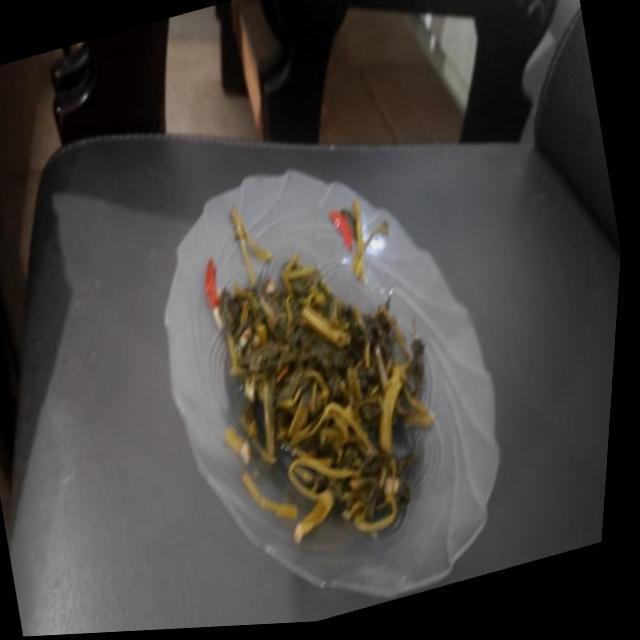tumis_kangkung: (213, 207, 433, 542)
